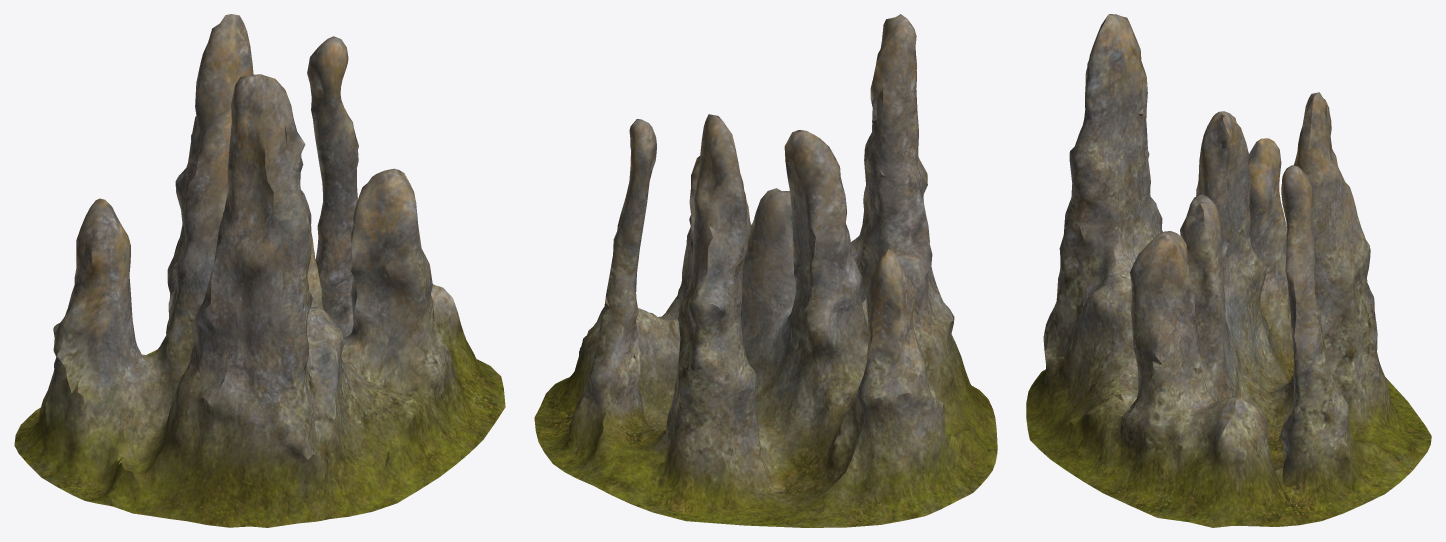
The model's file is StalagmiteC.fbx.
The picture shows the model from 3 angles, left to right: view 1: azimuth 30°, elevation 25°; view 2: azimuth 150°, elevation 25°; view 3: azimuth 270°, elevation 25°; orthographic projection. The views are drawn at different scales.
Visible parts, largest first — view 1: StalagmiteC; view 2: StalagmiteC; view 3: StalagmiteC.
Part boxes in pixels (x1,y1,x2,y2): StalagmiteC: [14, 14, 505, 527]; StalagmiteC: [534, 14, 997, 527]; StalagmiteC: [1026, 14, 1431, 527].
Bounding box in the file's own units: 400 × 364 × 346.
Materials: 1 (1 with a texture image).
